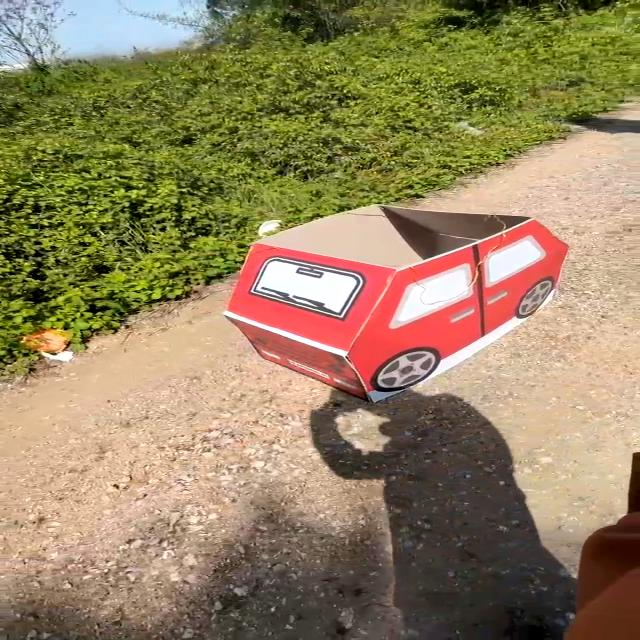red_car: (214, 194, 609, 409)
